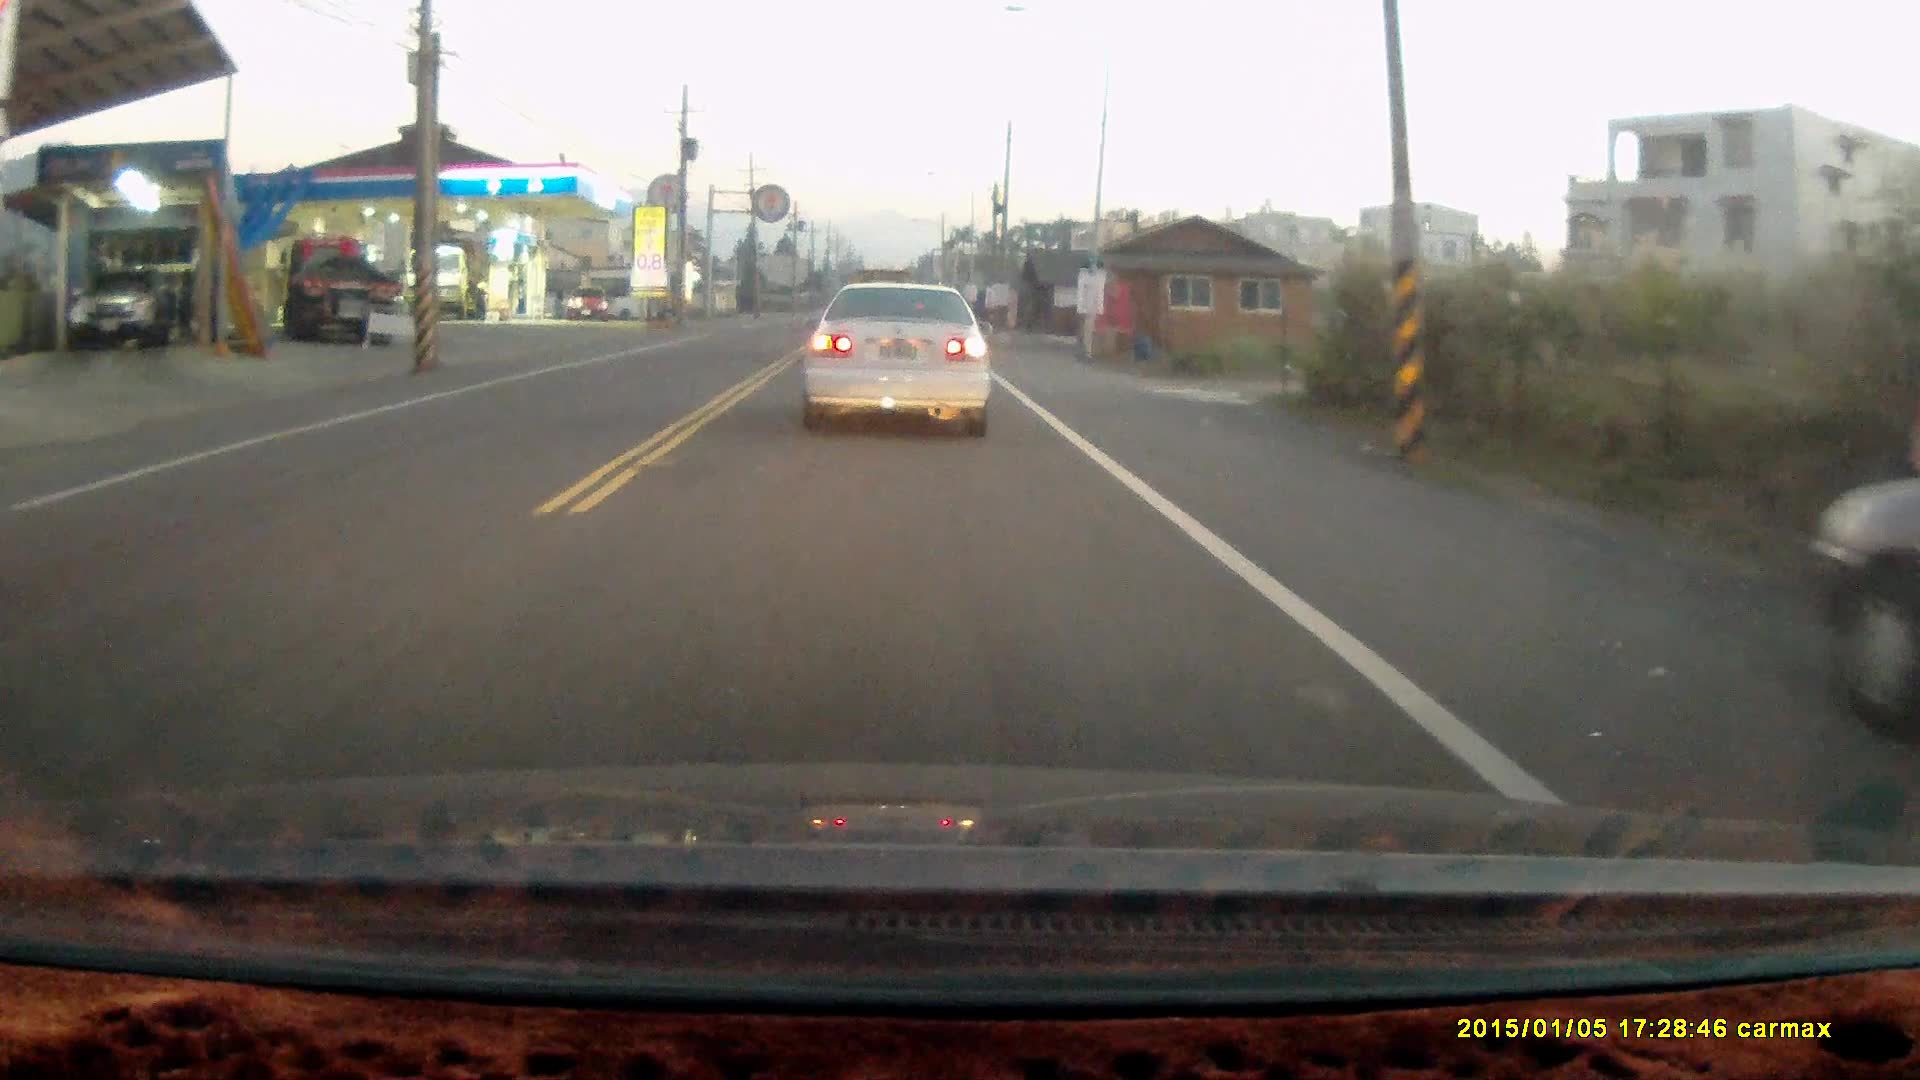pedestrian: (470, 273, 490, 317)
vehicle: (795, 287, 995, 449), (279, 242, 402, 351), (398, 237, 486, 321), (568, 287, 611, 321)
